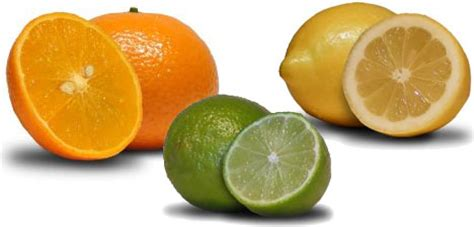orange: (82, 10, 226, 141)
